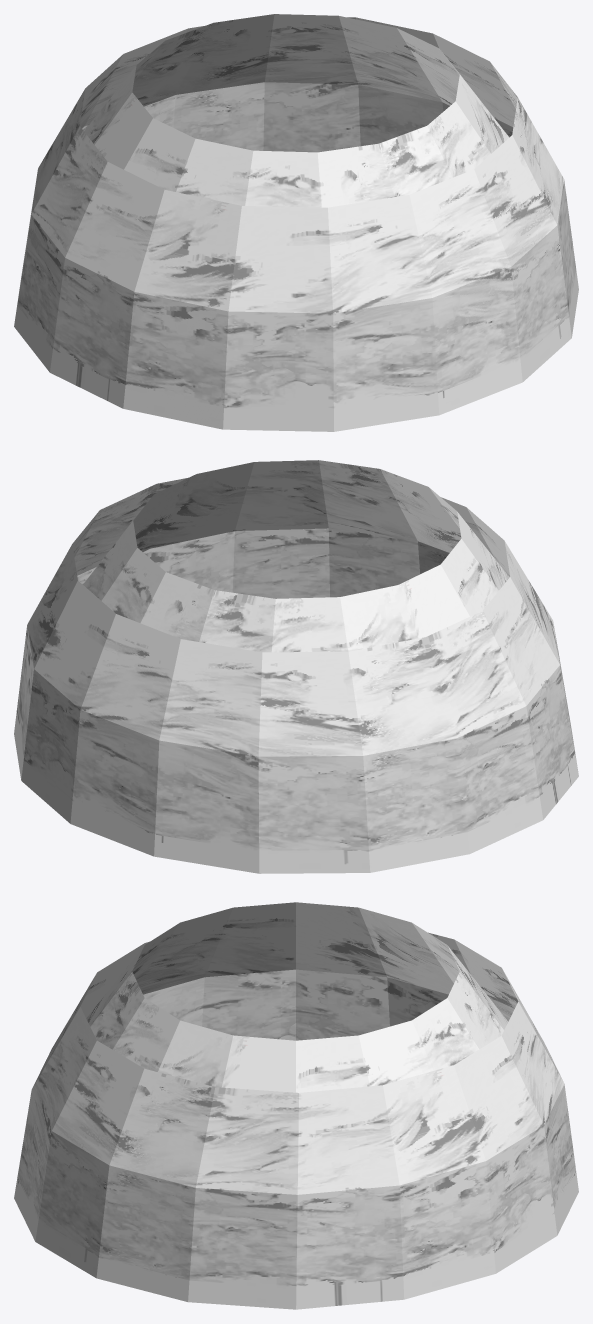
Rendered from EventSkyFX_S8_Halloween.fbx.
3 views of the same model, one above another, from view 1: azimuth 30°, elevation 25°; view 2: azimuth 150°, elevation 25°; view 3: azimuth 270°, elevation 25° (orthographic).
Visible parts, largest first — view 1: Clouds_Halloween; view 2: Clouds_Halloween; view 3: Clouds_Halloween.
Boxes of the visible parts, box(x1,y1,x2,y2) form: Clouds_Halloween: box(14, 14, 578, 431); Clouds_Halloween: box(14, 460, 578, 873); Clouds_Halloween: box(14, 902, 578, 1309).
Size of the model in its own units: 560 by 250 by 561.
